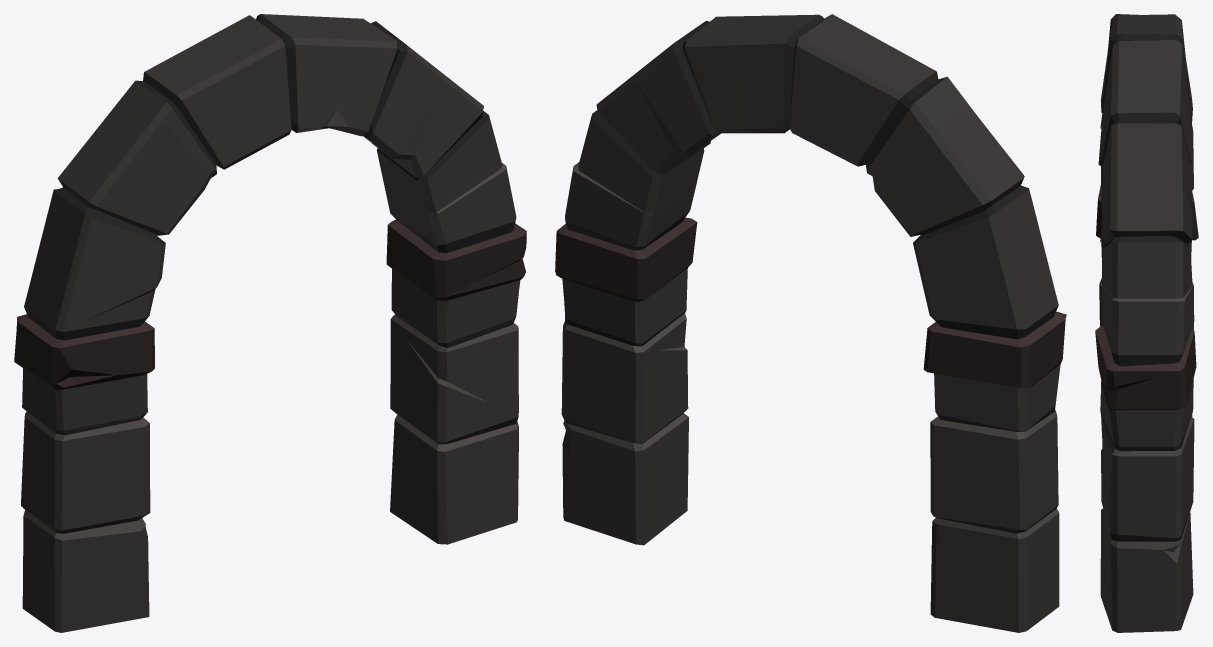
File: ArchWay_02.glb
The picture shows the model from 3 angles, left to right: view 1: azimuth 30°, elevation 25°; view 2: azimuth 150°, elevation 25°; view 3: azimuth 270°, elevation 25°; orthographic projection. The views are drawn at different scales.
Visible parts, largest first — view 1: Archway_02; view 2: Archway_02; view 3: Archway_02.
Boxes of the visible parts, x1,y1,x2,y2 form: Archway_02: [14, 14, 526, 632]; Archway_02: [555, 14, 1066, 632]; Archway_02: [1095, 14, 1198, 632].
Size of what is drawn, in the model's own units: 4.39 by 4.75 by 0.9036.
Materials: 1 (1 with a texture image).
